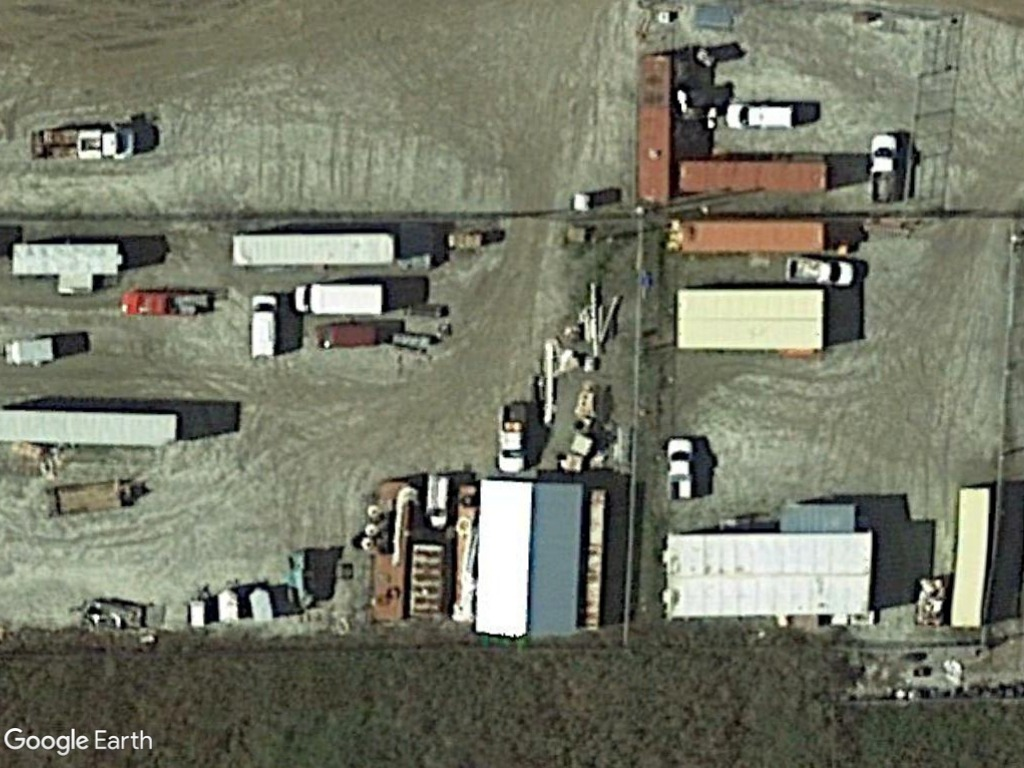car: (778, 251, 860, 290)
other: (659, 431, 697, 506), (864, 126, 897, 206)
van: (290, 282, 386, 320), (724, 98, 801, 134), (248, 286, 281, 367)
